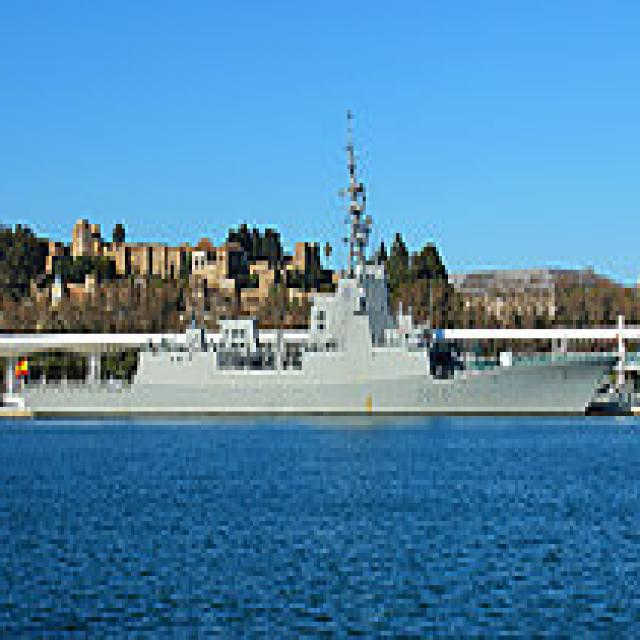Warship: (21, 265, 631, 416)
